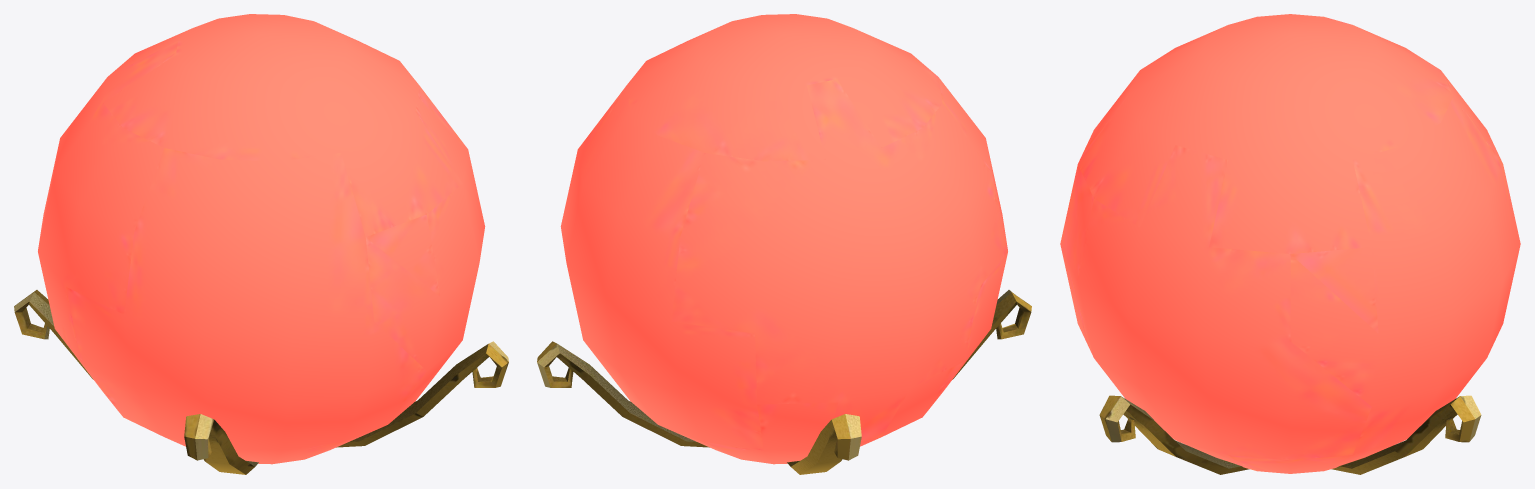
3 renders of one model, left to right at view 1: azimuth 30°, elevation 25°; view 2: azimuth 150°, elevation 25°; view 3: azimuth 270°, elevation 25°, orthographic. The views are drawn at different scales.
Visible parts, largest first — view 1: glow_Fortune_pearl, Polished_imperial_gold, Raised_light_gold_edges; view 2: glow_Fortune_pearl, Polished_imperial_gold, Raised_light_gold_edges; view 3: glow_Fortune_pearl, Polished_imperial_gold, Raised_light_gold_edges.
Part boxes in pixels (x1,y1,x2,y2): glow_Fortune_pearl: [38, 14, 485, 464]; Polished_imperial_gold: [14, 290, 508, 474]; Raised_light_gold_edges: [14, 292, 508, 466]; glow_Fortune_pearl: [560, 14, 1007, 464]; Polished_imperial_gold: [537, 292, 1031, 474]; Raised_light_gold_edges: [537, 290, 1013, 460]; glow_Fortune_pearl: [1060, 14, 1520, 473]; Polished_imperial_gold: [1099, 395, 1475, 474]; Raised_light_gold_edges: [1105, 395, 1481, 468].
Size of the model in its own units: 1 by 1 by 1.
Materials: 3 (3 with a texture image).
